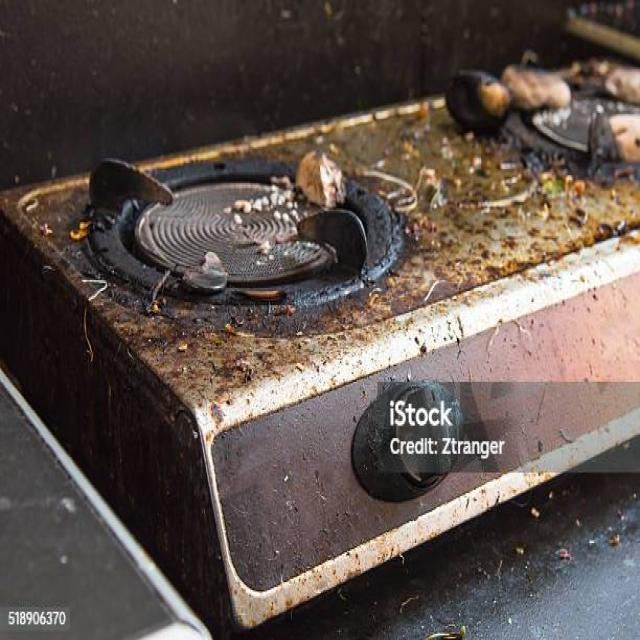knob_ON: (82, 132, 417, 304)
